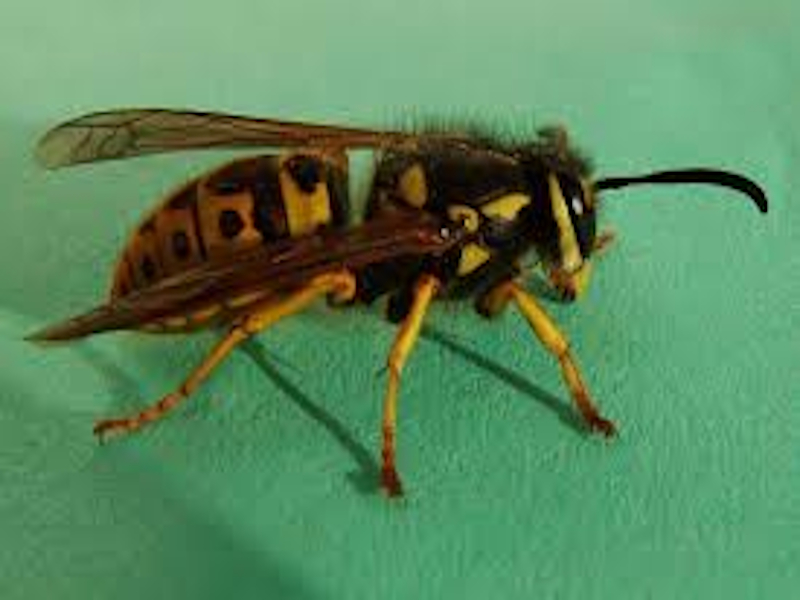chax: (27, 93, 766, 490)
